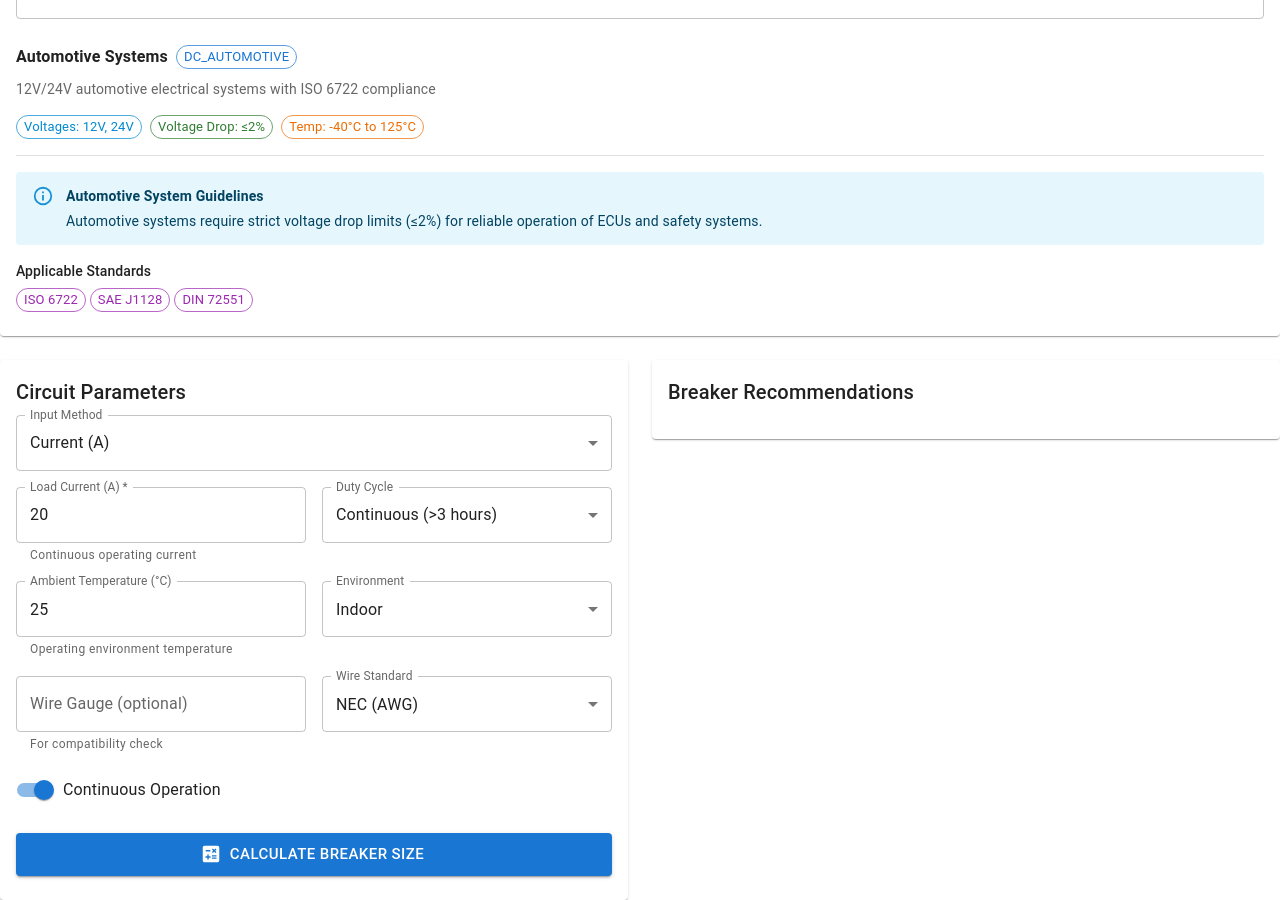
DC Breaker Calculator › Calculation Functionality › should show compliance indicators
(page scrolled)
Trigger calculation
Click the button "Calculate Breaker Size": (314, 854) [16,833,612,876]
(page scrolled)
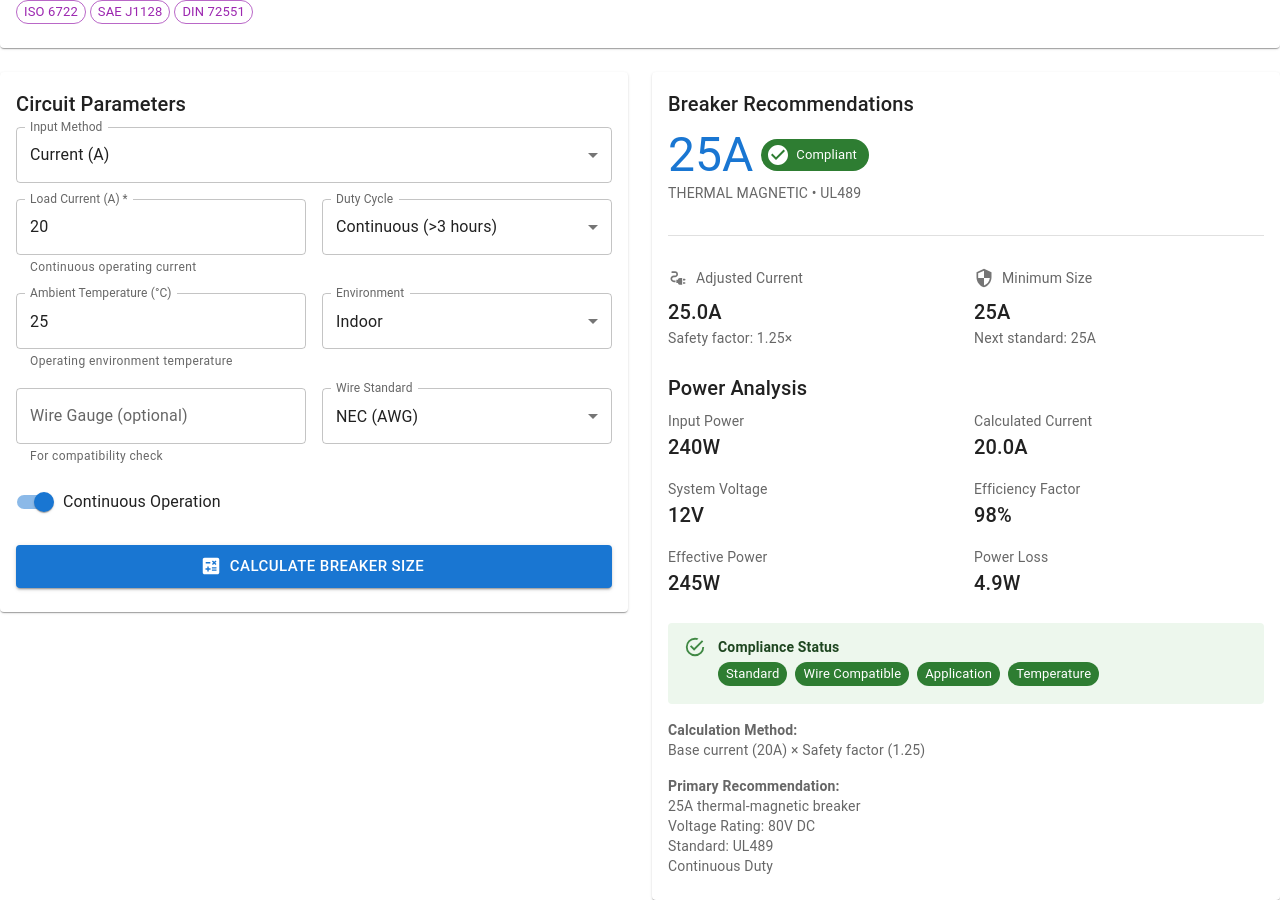
Expected: the text "Standard" is shown, [726,666,780,681]
Expected: the text "Wire Compatible" is shown, [796,664,909,683]
Expected: the text "Application" is shown, [925,666,992,681]
